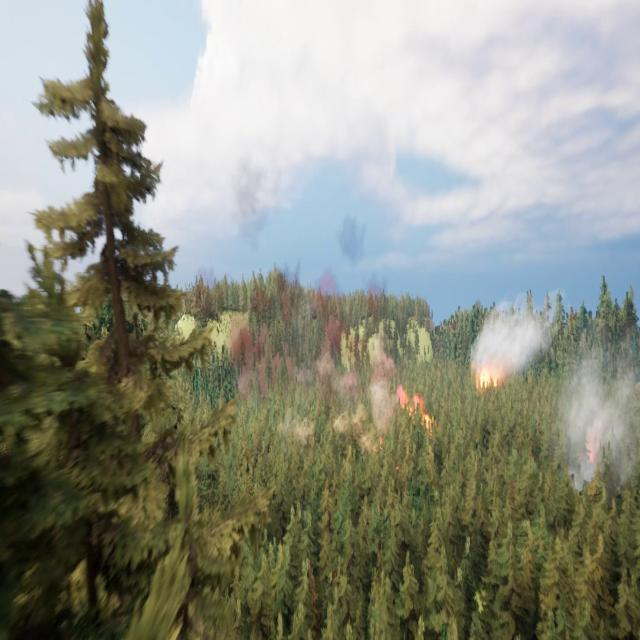fire: (394, 373, 440, 452), (477, 366, 507, 383)
smoke: (216, 150, 408, 450), (554, 346, 640, 486), (469, 294, 564, 397)
